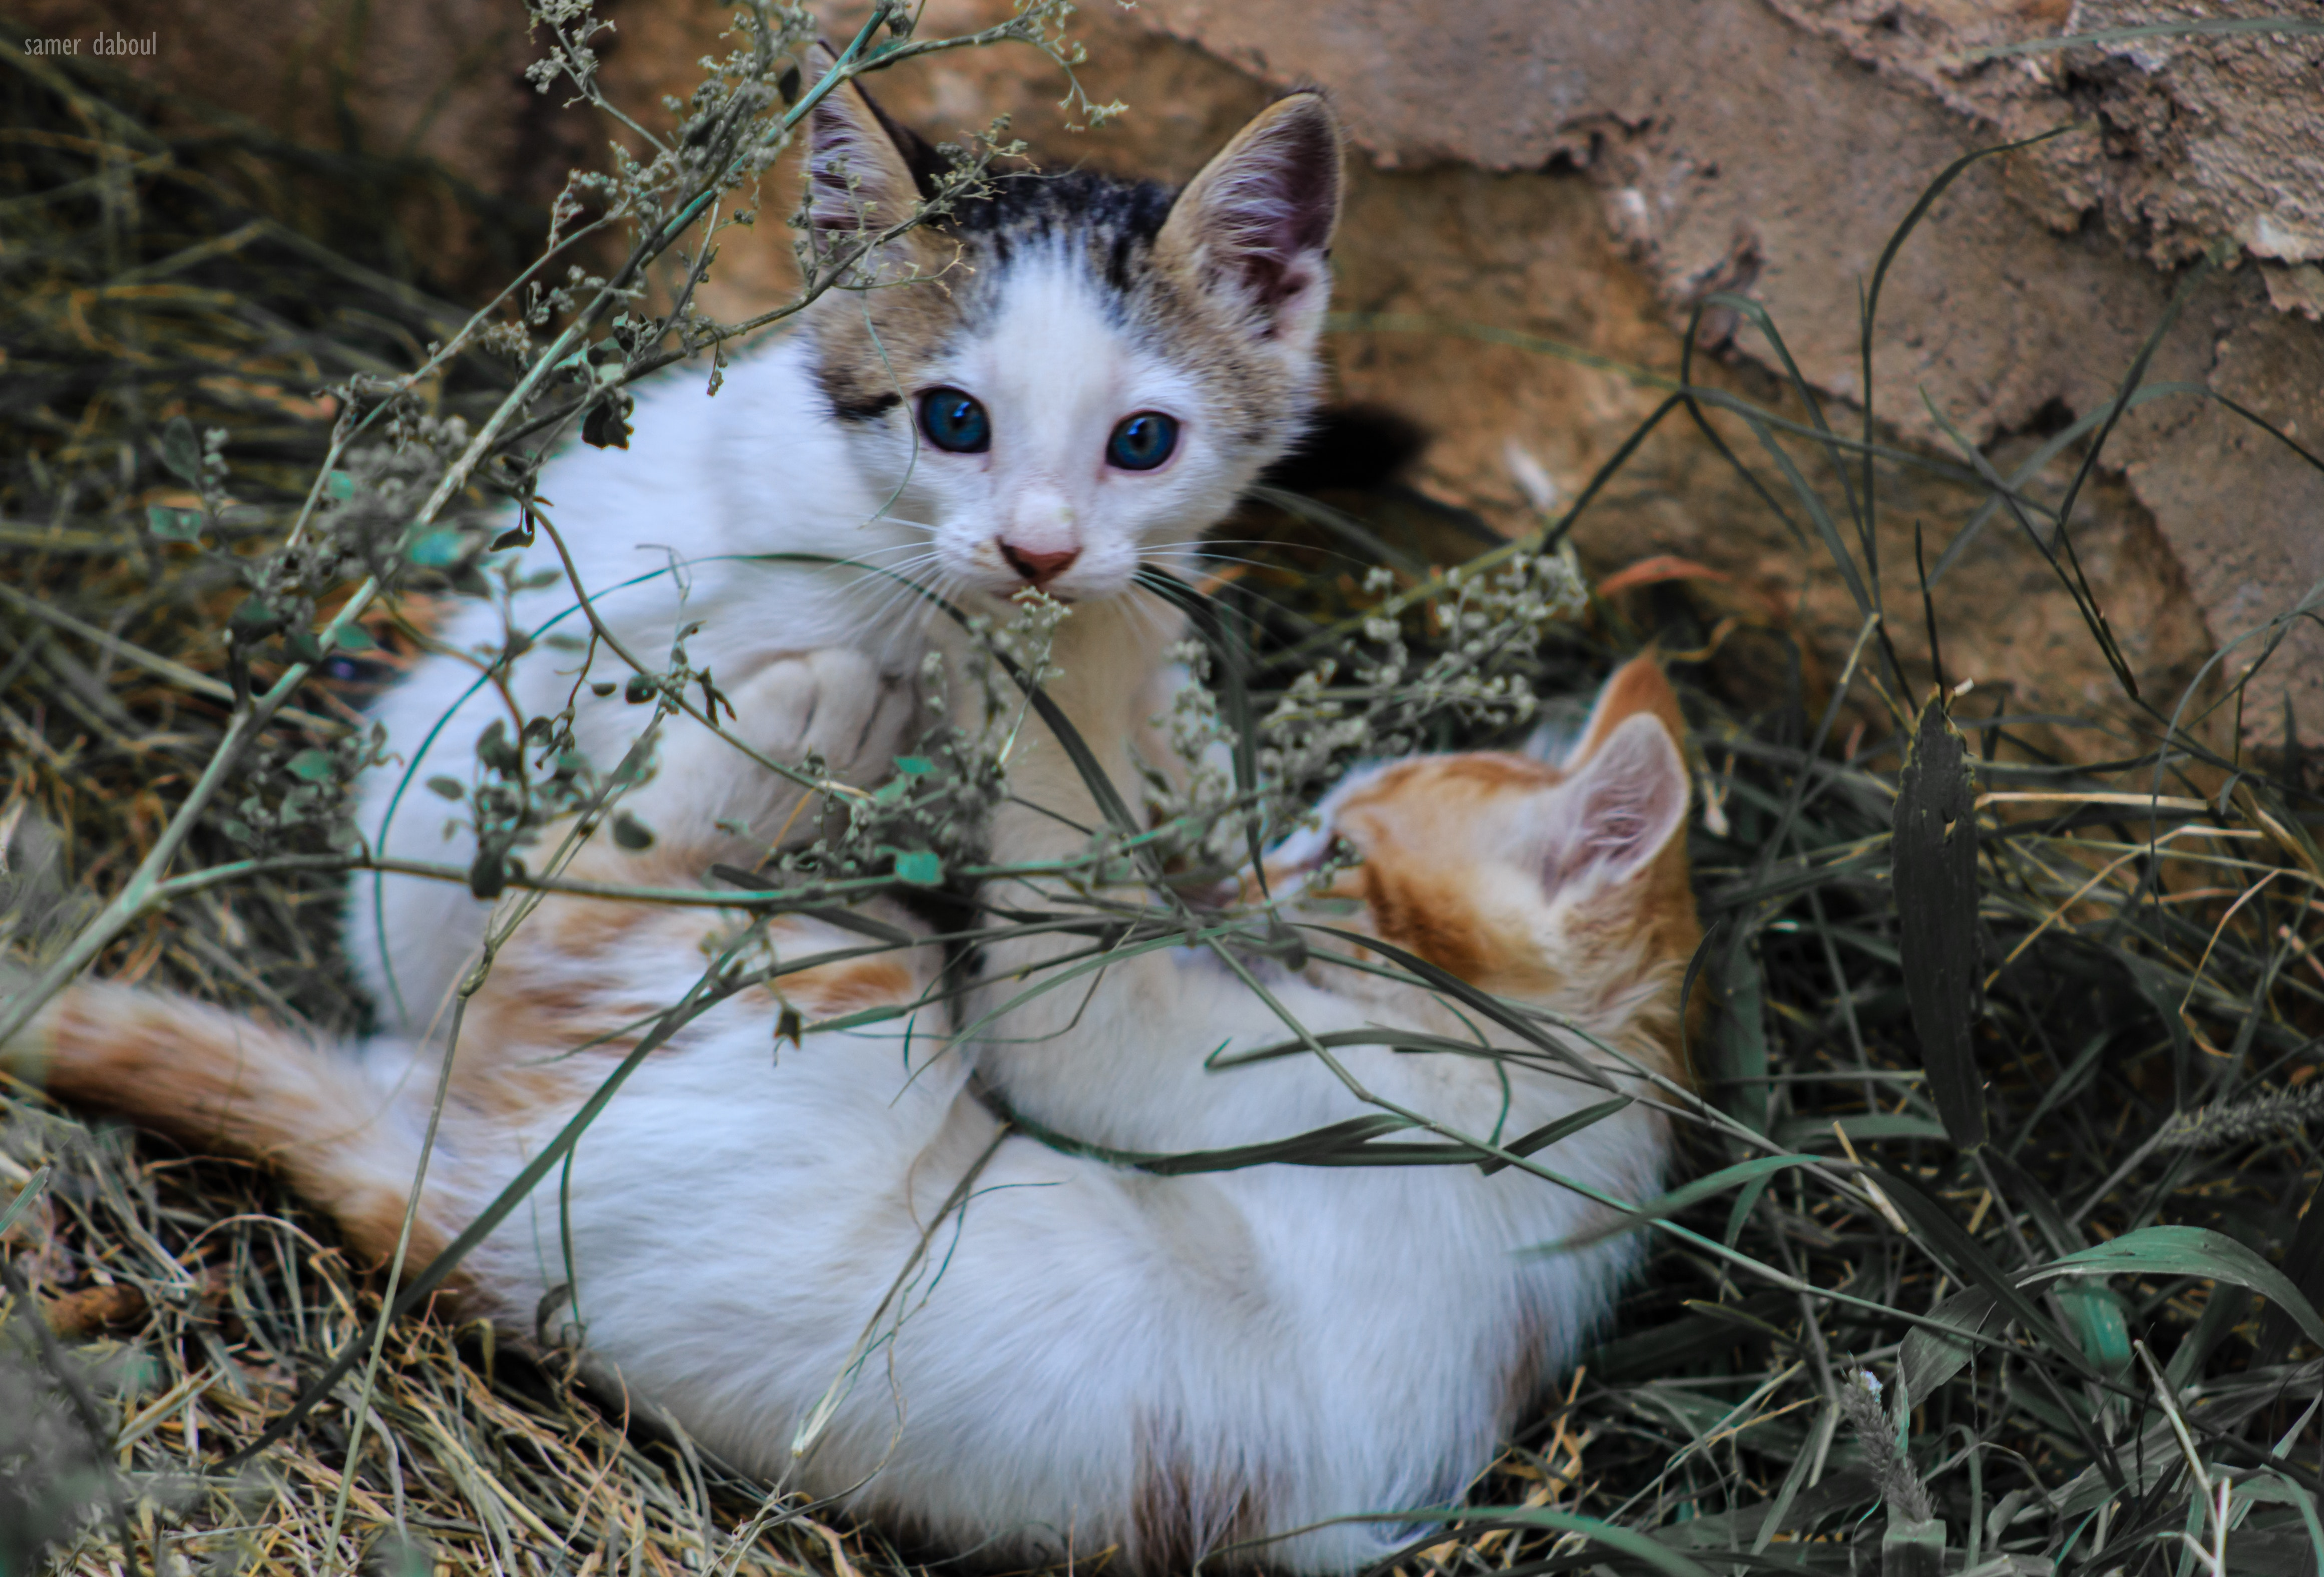cat: (63, 656, 1701, 1517), (385, 44, 1337, 880)
cat-face: (774, 40, 1330, 604)
